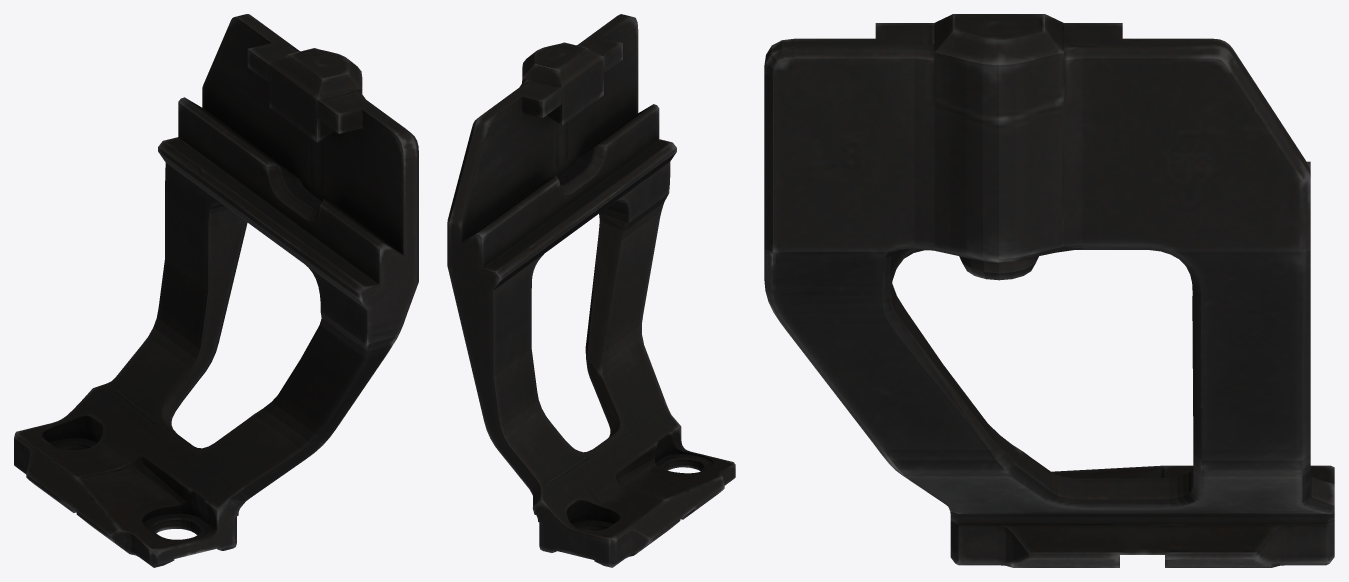
3 renders of one model, left to right at view 1: azimuth 30°, elevation 25°; view 2: azimuth 150°, elevation 25°; view 3: azimuth 270°, elevation 25°, orthographic. The views are drawn at different scales.
Parts seen in each view (by area): view 1: TW_638db77630c4240f9e06f8b6_PZ_Import; view 2: TW_638db77630c4240f9e06f8b6_PZ_Import; view 3: TW_638db77630c4240f9e06f8b6_PZ_Import.
Boxes of the visible parts, x1,y1,x2,y2 form: TW_638db77630c4240f9e06f8b6_PZ_Import: (14, 14, 418, 567); TW_638db77630c4240f9e06f8b6_PZ_Import: (447, 14, 735, 567); TW_638db77630c4240f9e06f8b6_PZ_Import: (764, 14, 1334, 567).
Size of the model in its own units: 0.0253 by 0.0391 by 0.0461.
1 material, 1 textured.
